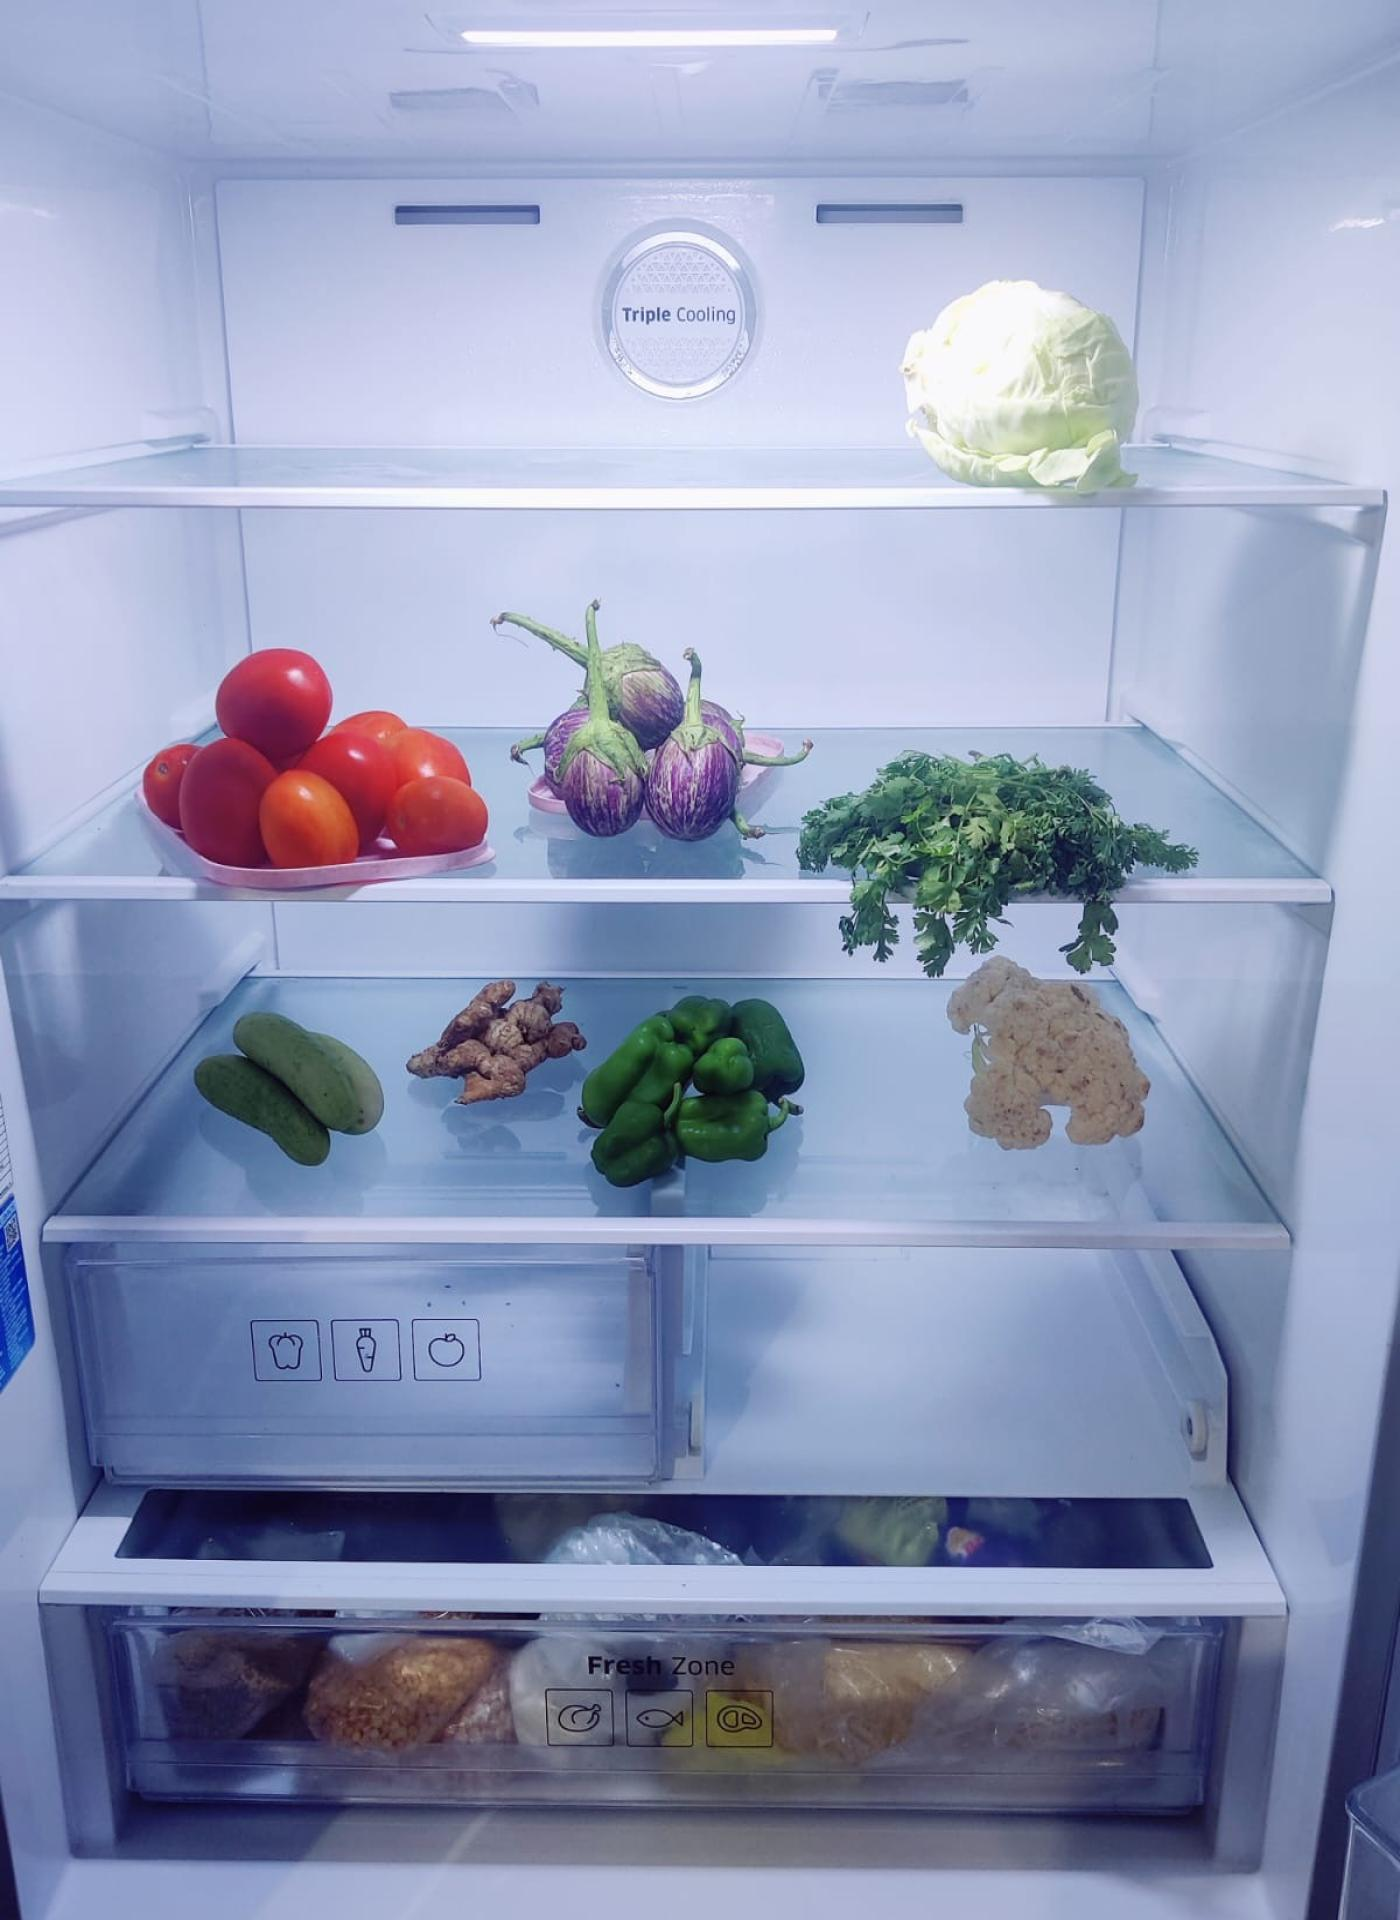brinjal: (546, 637, 741, 836)
cabbage: (905, 271, 1141, 470)
capsicum: (581, 990, 796, 1182)
cauliflower: (959, 963, 1155, 1152)
coriander: (799, 750, 1184, 920)
cucumber: (195, 1006, 388, 1163)
ginger: (412, 975, 587, 1103)
tomato: (148, 640, 485, 860)
